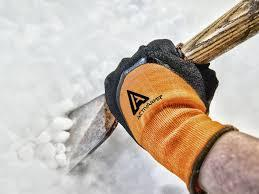gloves: (103, 38, 240, 194)
